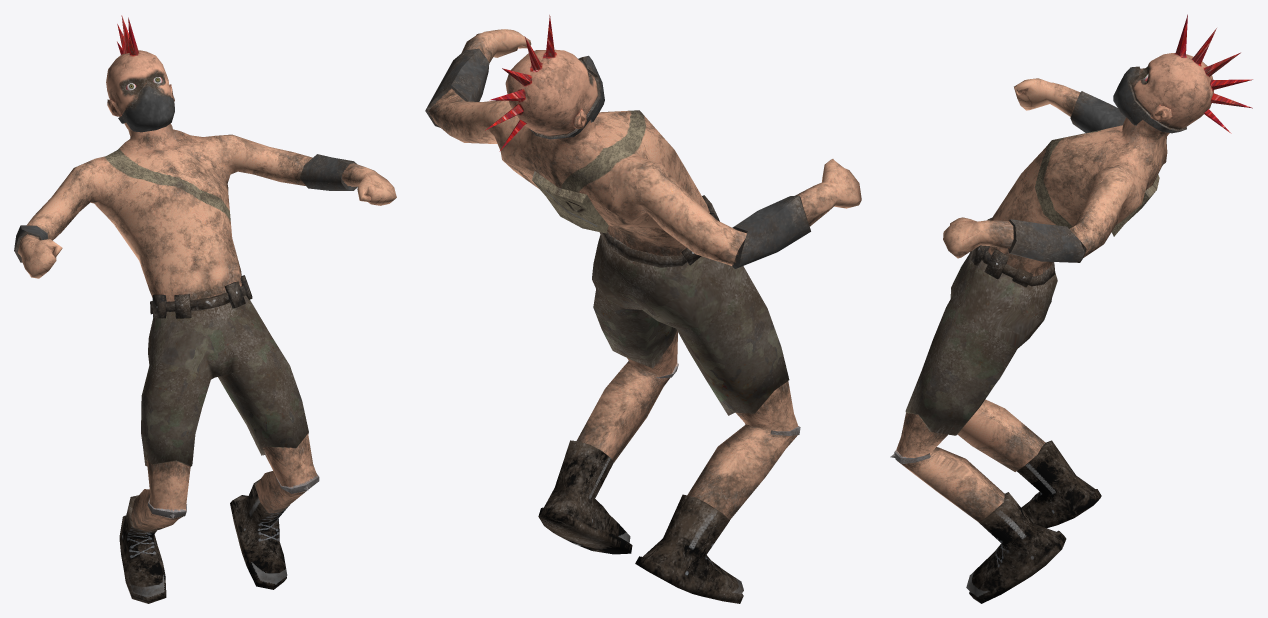
Rendered from Anim_morir_1_npc2.0017.obj.
3 renders of one model, left to right at view 1: azimuth 30°, elevation 25°; view 2: azimuth 150°, elevation 25°; view 3: azimuth 270°, elevation 25°, orthographic. The views are drawn at different scales.
Visible parts, largest first — view 1: polySurface1; view 2: polySurface1; view 3: polySurface1.
Boxes of the visible parts, left/top/right/bottom form: polySurface1: left=14, top=15, right=396, bottom=603; polySurface1: left=425, top=15, right=861, bottom=603; polySurface1: left=890, top=14, right=1252, bottom=603.
Size of the model in its own units: 5.9 by 8.65 by 5.1.
